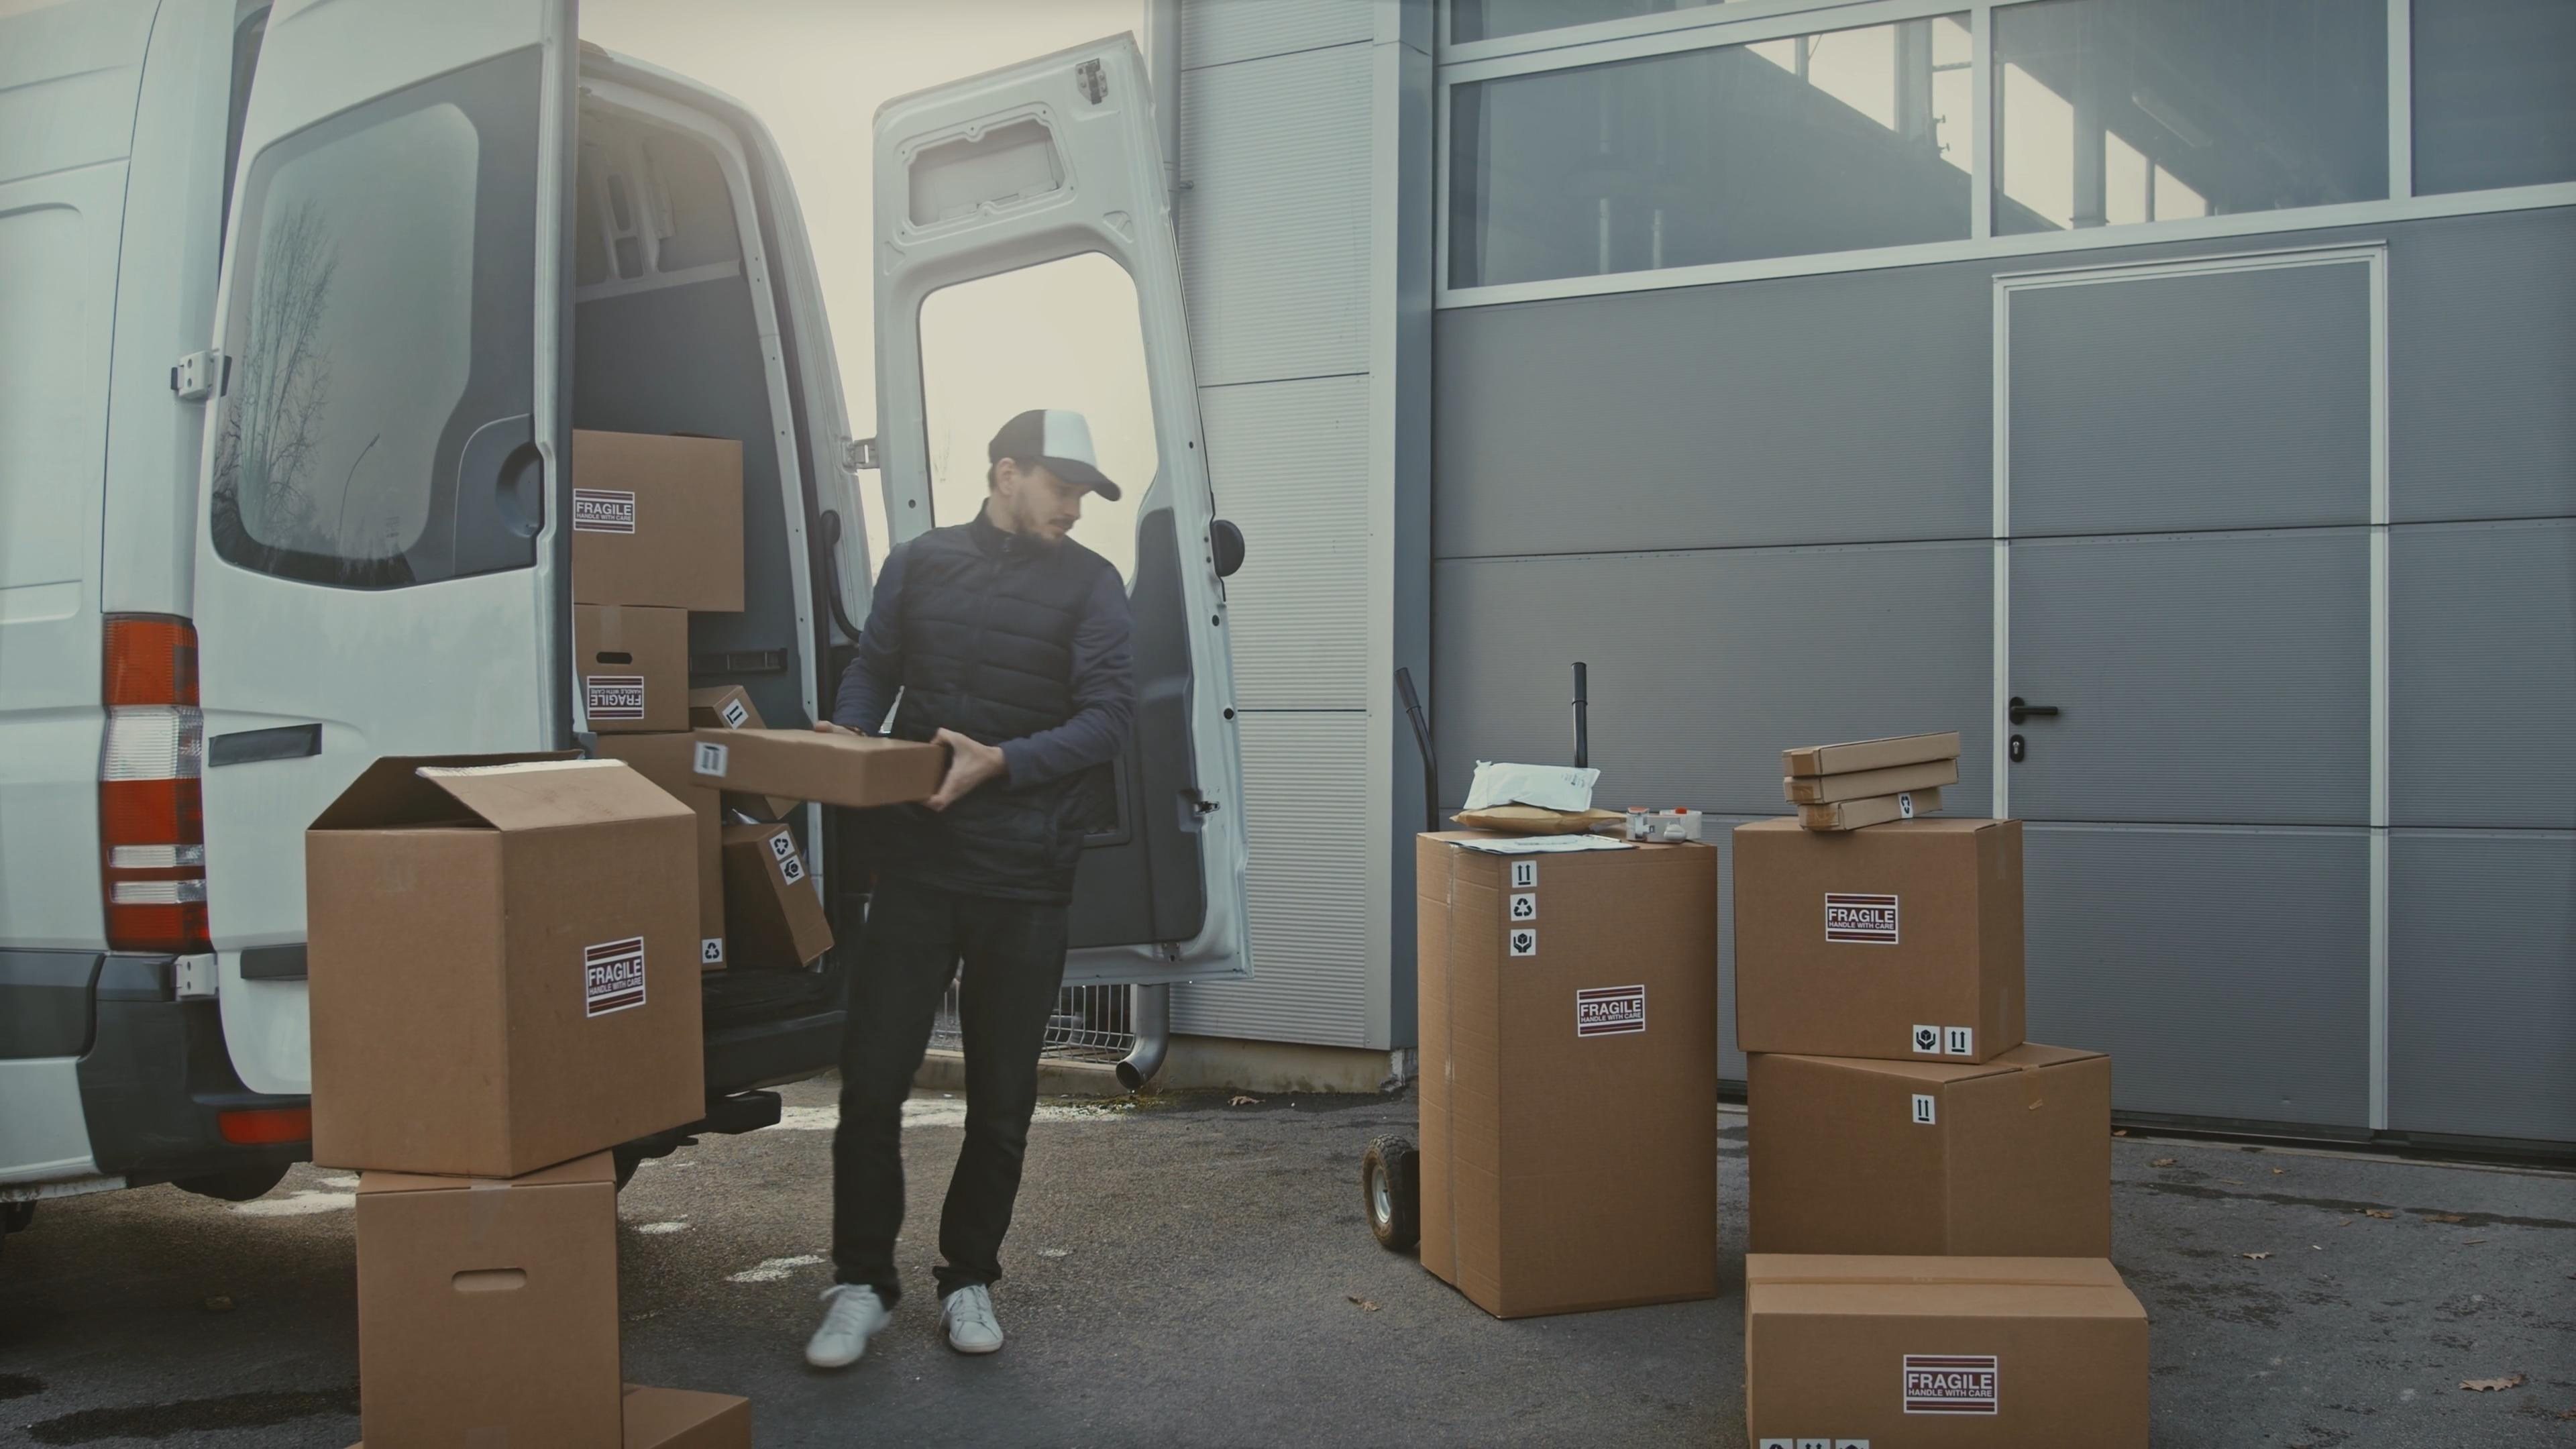-: (306, 745, 702, 1177), (1415, 812, 1730, 1323), (347, 1168, 632, 1449), (1741, 1261, 2151, 1449), (1737, 801, 2028, 1063), (1759, 1044, 2102, 1265), (571, 426, 754, 621), (665, 722, 927, 814), (584, 614, 692, 738), (1775, 722, 1960, 782), (1785, 793, 1946, 830), (1778, 763, 1957, 793)
